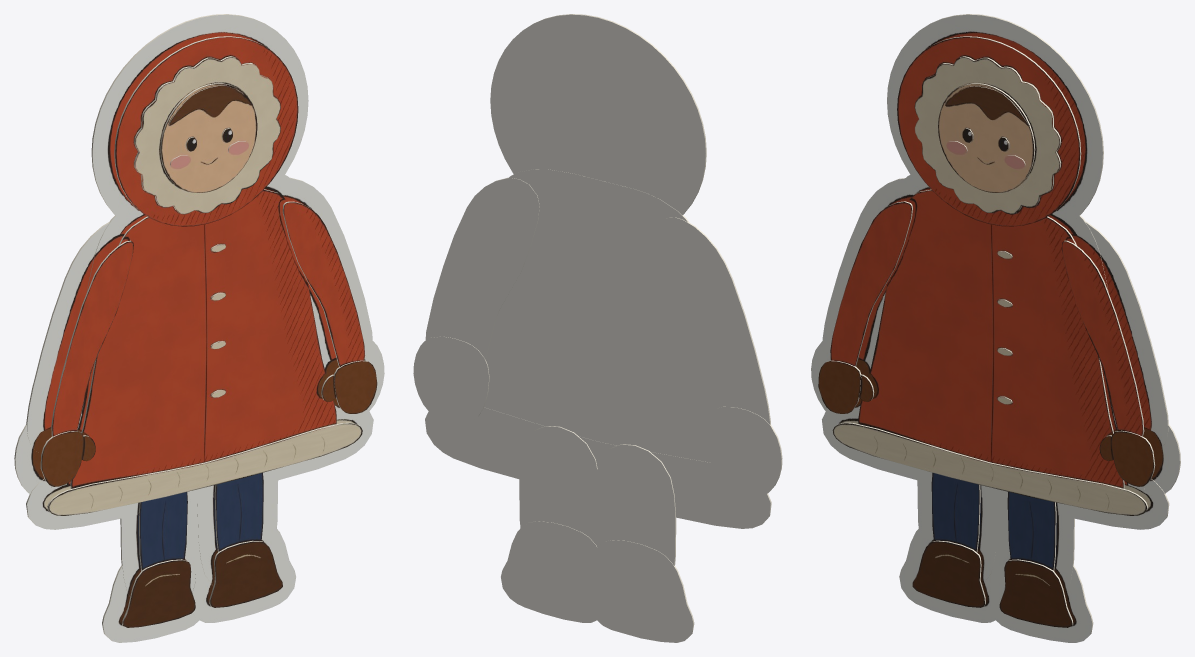
File: hero-DH8E3Hto.glb
The picture shows the model from 3 angles, left to right: view 1: azimuth 30°, elevation 25°; view 2: azimuth 150°, elevation 25°; view 3: azimuth 330°, elevation 25°; orthographic projection.
Visible parts, largest first — view 1: hero.001; view 2: hero.001; view 3: hero.001.
Part boxes in pixels (x1,y1,x2,y2): hero.001: [14, 14, 384, 642]; hero.001: [413, 14, 782, 642]; hero.001: [811, 14, 1180, 642].
Bounding box in the file's own units: 0.7639 × 1.21 × 0.0418.
3 materials, 1 textured.
